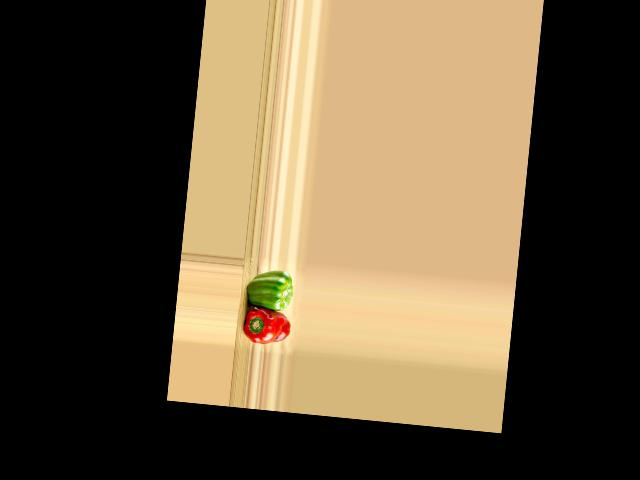bell_pepper: (242, 305, 292, 347)
